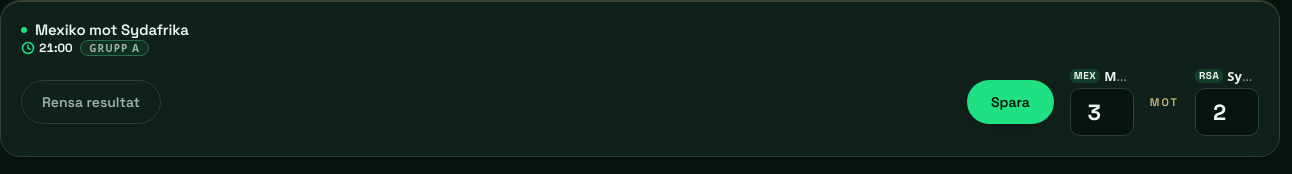
Scenario: ResultEntryForm, auto-spelad + Rensa resultat (T31, #51) › en SPELAD match visar "Rensa resultat" som nollställer tillbaka till ej spelad
Click the button "Rensa resultat".
click(91, 102)  # box [21,80,161,124]
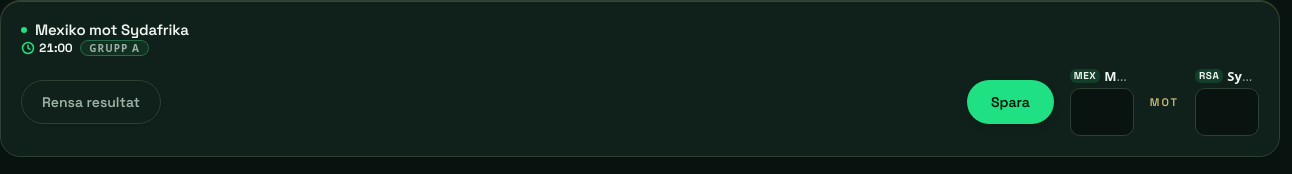
Expected: the number field named "Mexiko (hemma)" is not empty, [1070,88,1134,136]
Expected: the number field named "Sydafrika (borta)" is not empty, [1195,88,1259,136]
